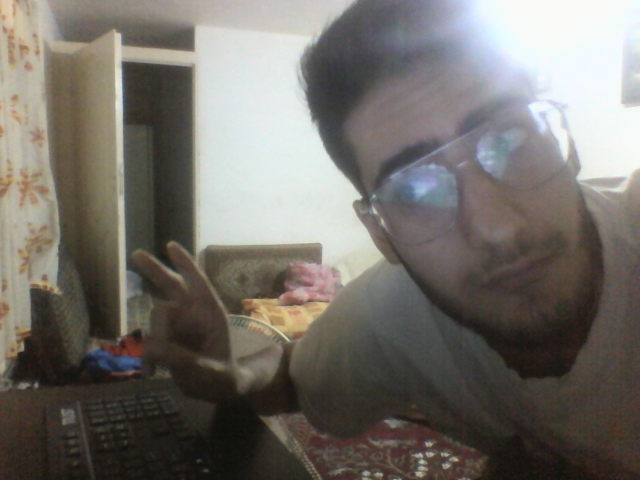sorat: (297, 2, 603, 352), (122, 241, 243, 402)
